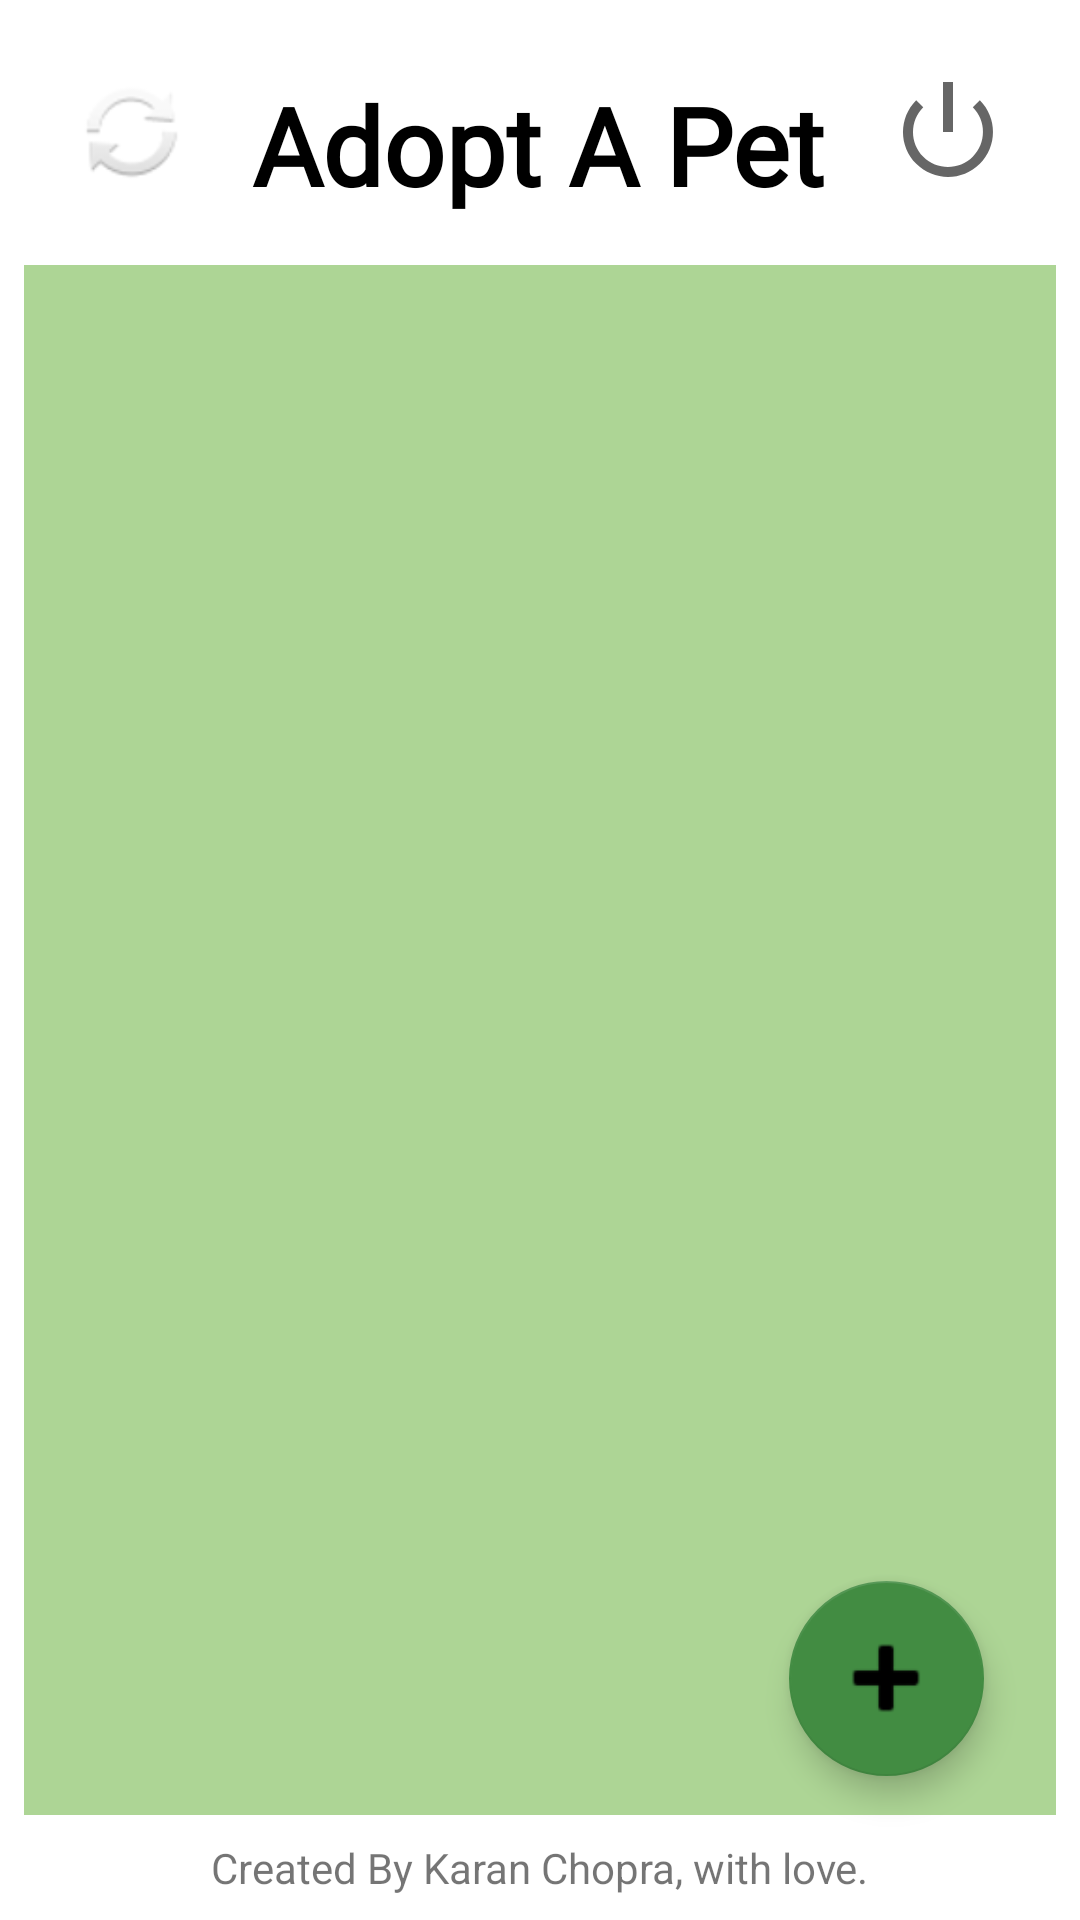

Where to tap for icons on this 1080*1920 app screen, as (x=x, y=y):
add: (x=886, y=1678)
lock power off: (x=948, y=129)
popup sync: (x=131, y=137)
